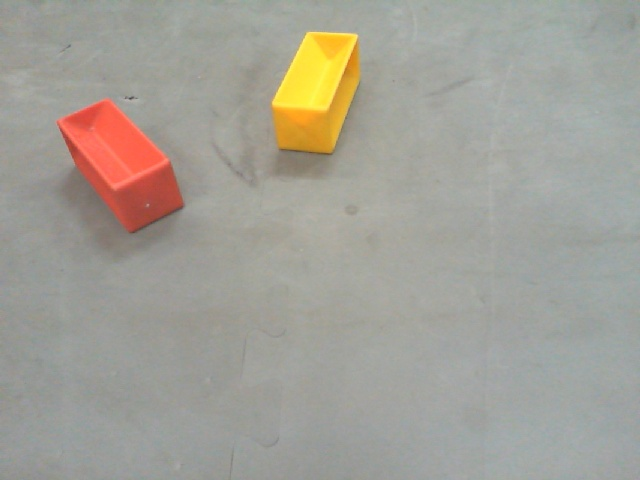RedSample: (54, 95, 186, 246)
YellowSample: (269, 27, 364, 157)
